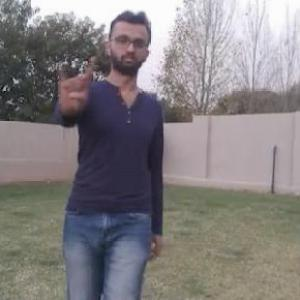takeoff-hand: (50, 49, 95, 119)
